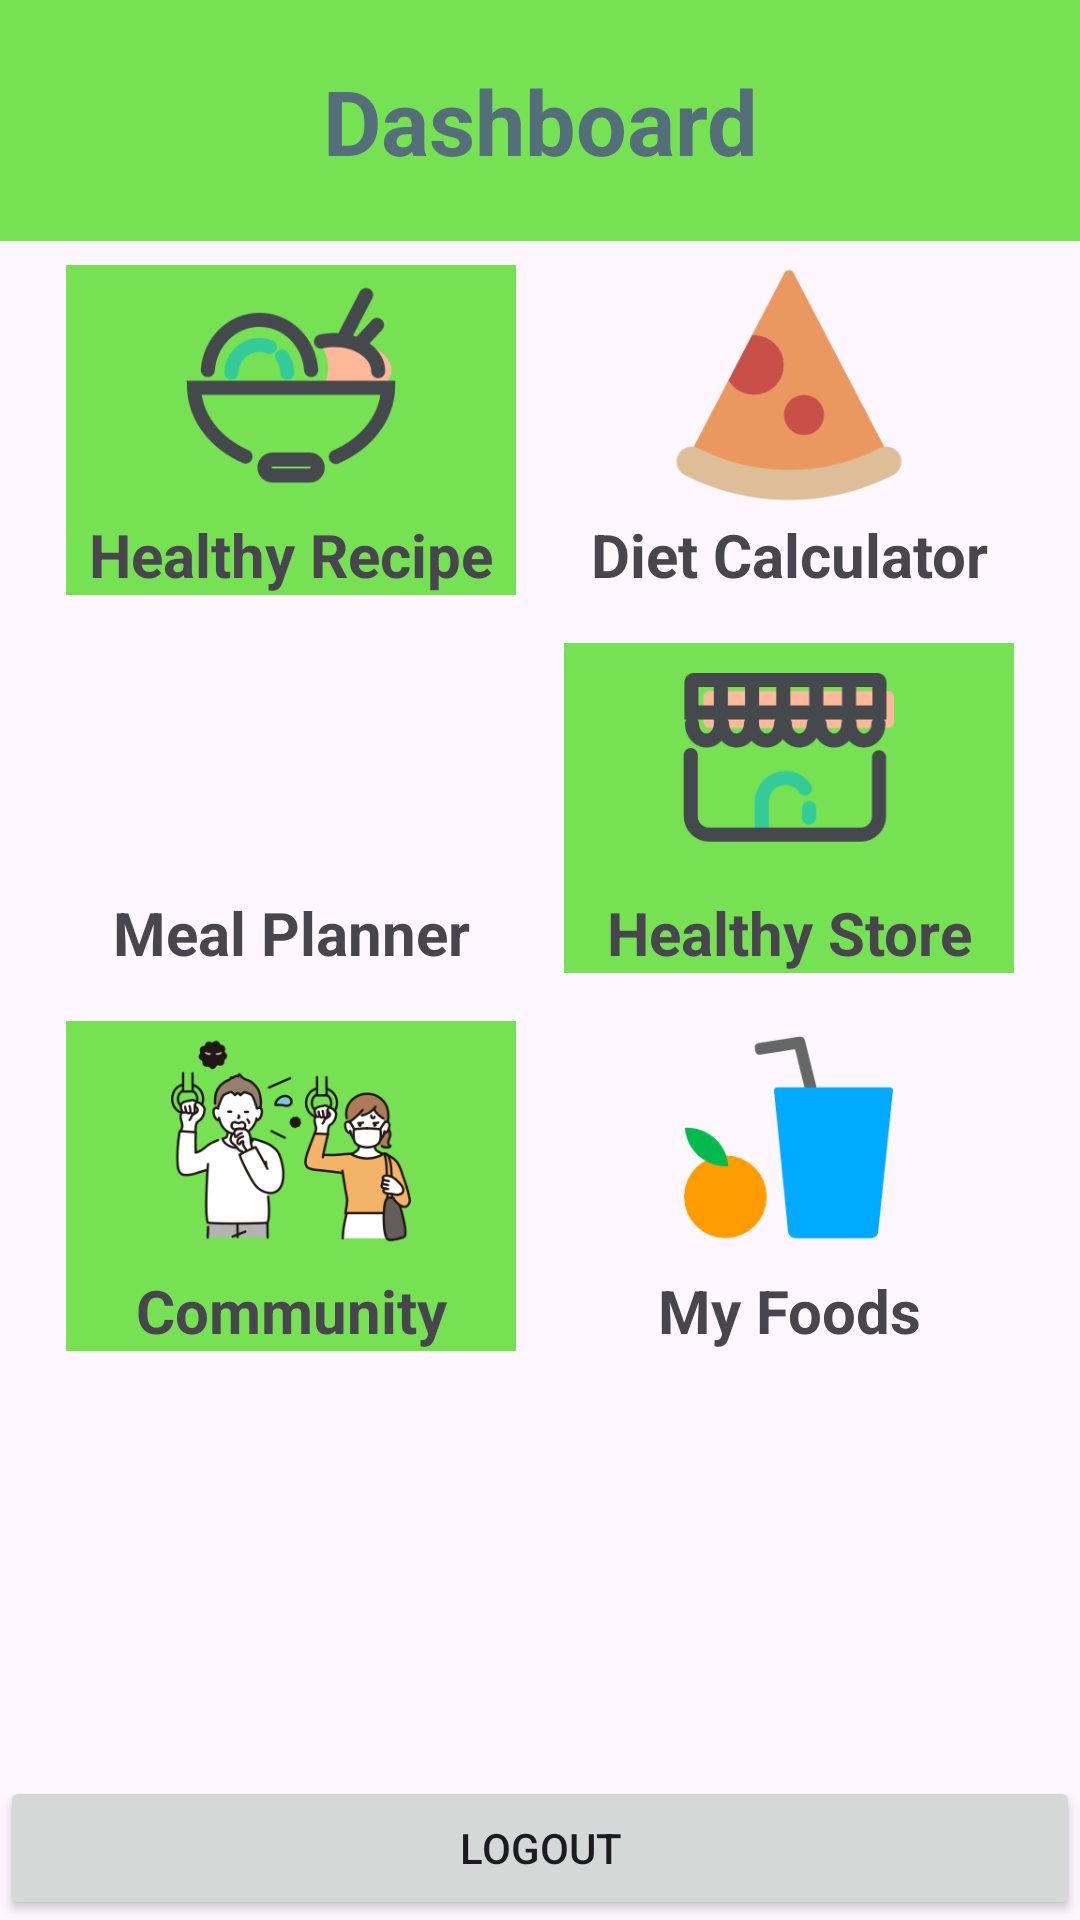

Named icons in this screenshot (1080px x 1920px) and their bounding boxes, (x1, y1, x2, y2):
food: (186, 287, 396, 483)
fooddrinkl: (684, 1036, 893, 1239)
pizza: (676, 270, 902, 500)
store homepage home: (683, 673, 894, 842)
